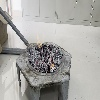fire: (37, 33, 44, 48), (50, 63, 55, 70)
